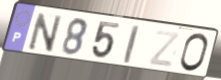5: (90, 20, 122, 61)
8: (60, 17, 89, 57)
I: (122, 24, 141, 66)
N: (27, 11, 64, 54)
O: (178, 32, 211, 74)
Z: (147, 29, 183, 70)
